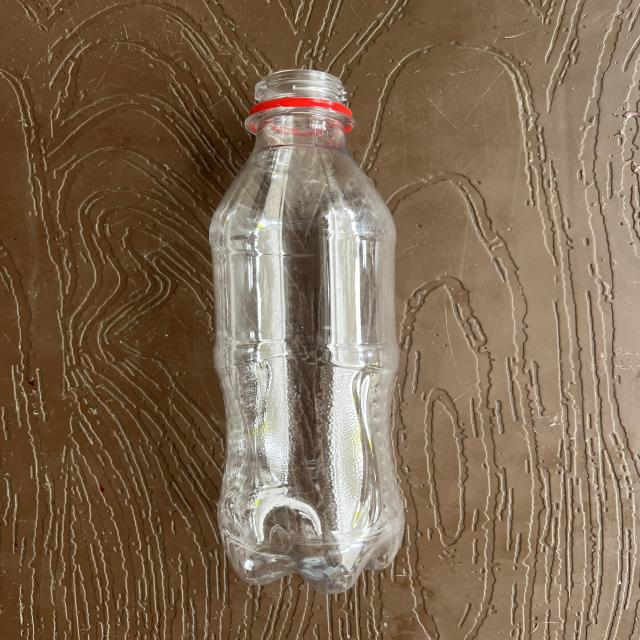PET_With_Cap: (203, 65, 412, 600)
